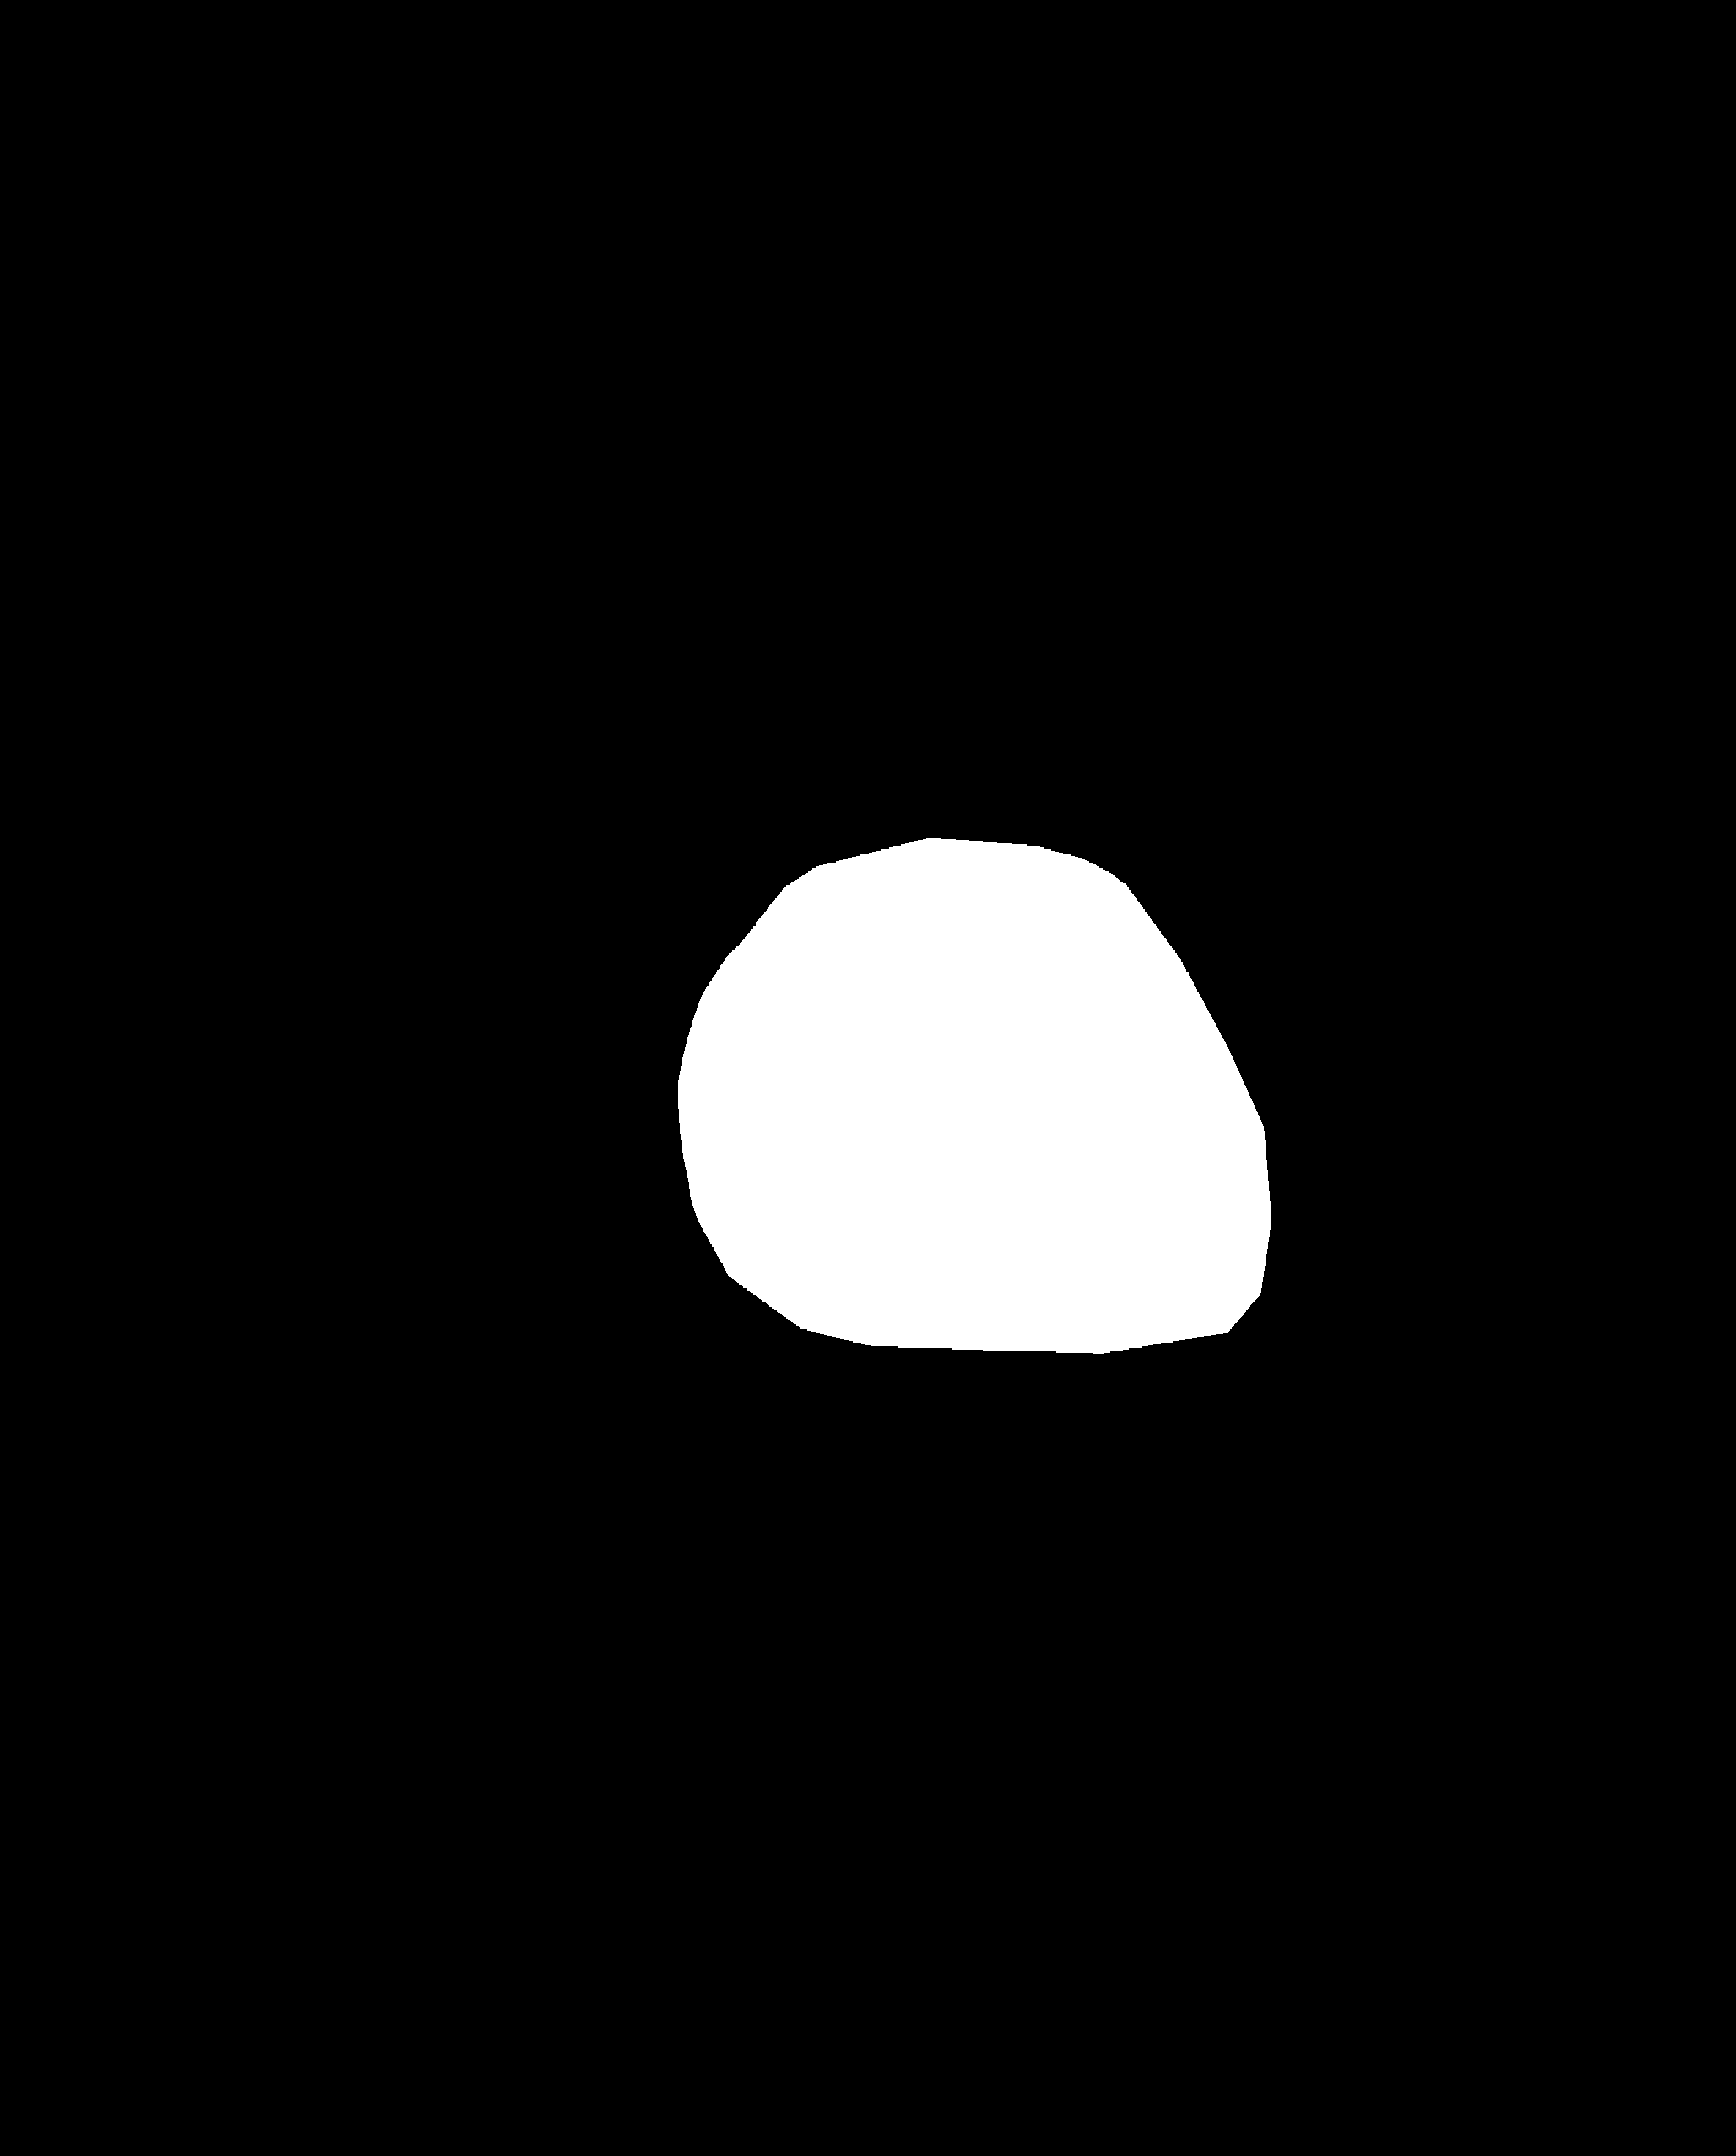heart: (684, 905, 1268, 1371)
left_lung: (230, 363, 849, 1477)
right_lung: (997, 372, 1552, 1462)
